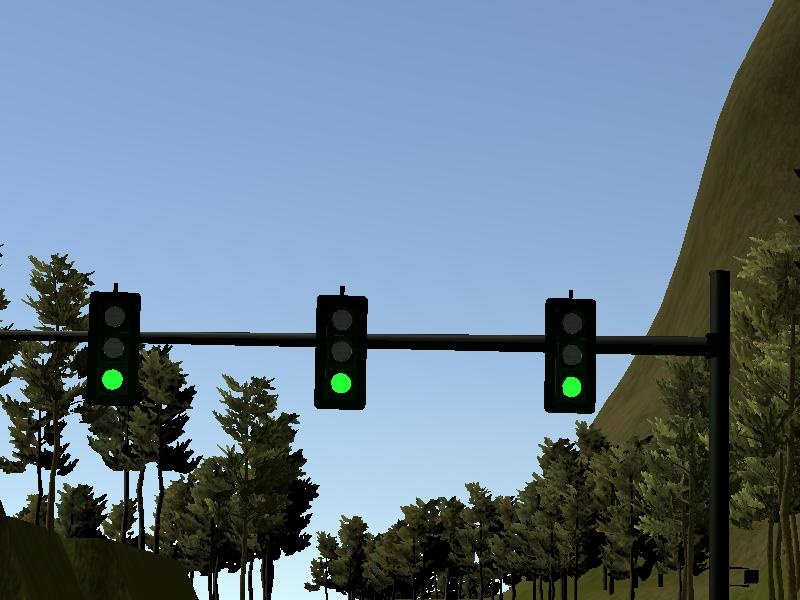traffic_light_green: (74, 285, 702, 413)
